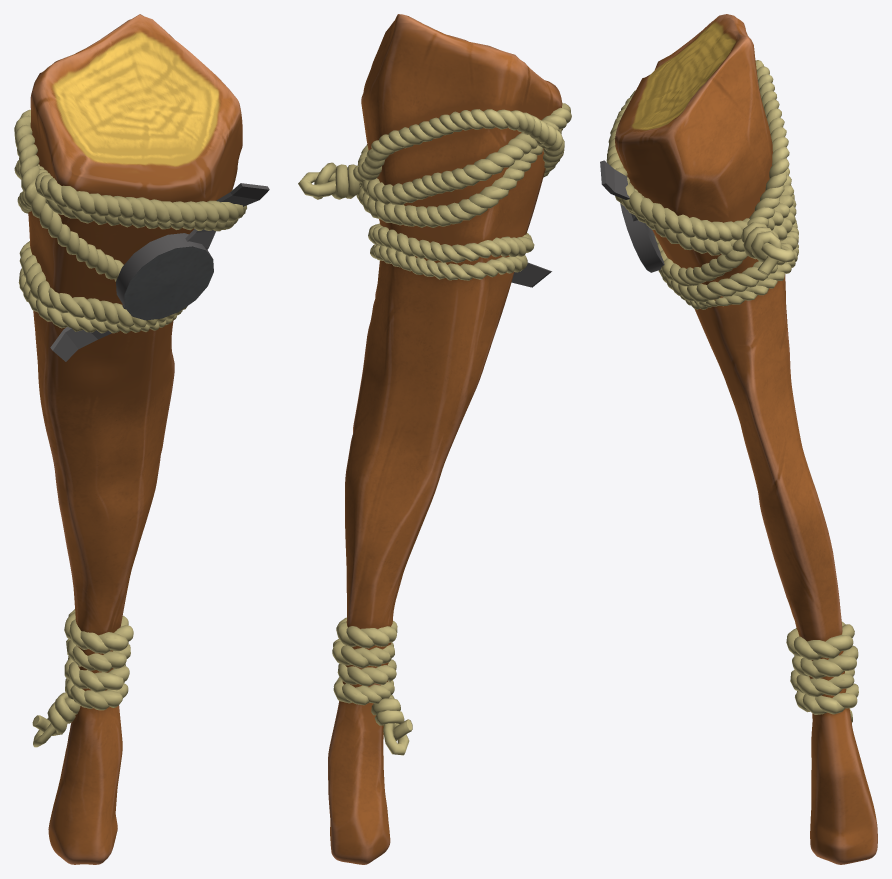
File: Weapon.fbx
The picture shows the model from 3 angles, left to right: view 1: azimuth 30°, elevation 25°; view 2: azimuth 150°, elevation 25°; view 3: azimuth 270°, elevation 25°; orthographic projection. The views are drawn at different scales.
Visible parts, largest first — view 1: LOW 01; view 2: LOW 01; view 3: LOW 01.
Boxes of the visible parts, x1,y1,x2,y2 form: LOW 01: (14, 14, 269, 864); LOW 01: (298, 14, 571, 864); LOW 01: (600, 14, 877, 864).
Size of the model in its own units: 65.32 by 232 by 71.15.
